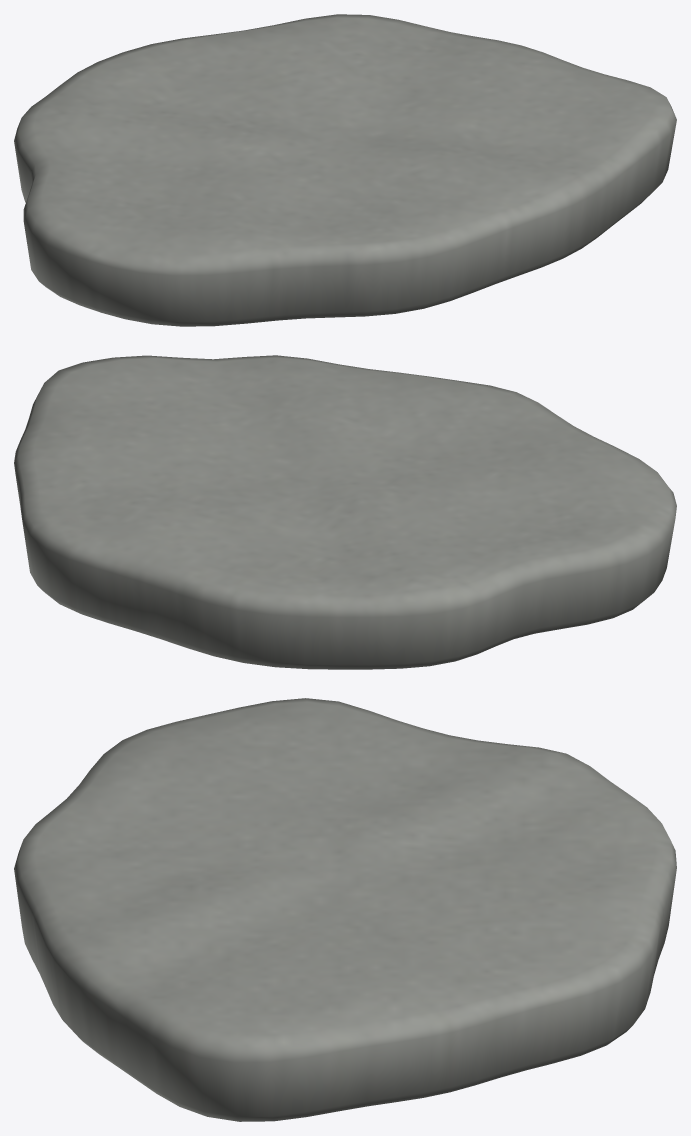
Rendered from SteppingStone_05.fbx.
The picture shows the model from 3 angles, top to bottom: view 1: azimuth 30°, elevation 25°; view 2: azimuth 150°, elevation 25°; view 3: azimuth 270°, elevation 25°; orthographic projection. The views are drawn at different scales.
Parts seen in each view (by area): view 1: SteppingStone_05; view 2: SteppingStone_05; view 3: SteppingStone_05.
Part boxes in pixels (x1,y1,x2,y2): SteppingStone_05: (14, 14, 676, 326); SteppingStone_05: (14, 355, 676, 669); SteppingStone_05: (14, 698, 676, 1121).
Bounding box in the file's own units: 0.45 × 0.0519 × 0.3567.
1 material, 1 textured.
